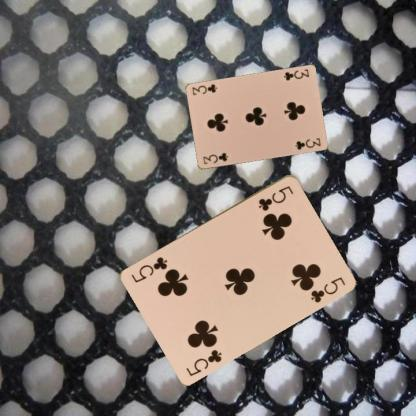3c: (281, 66, 310, 82), (201, 150, 230, 165)
5c: (183, 346, 223, 377), (256, 183, 295, 212)
